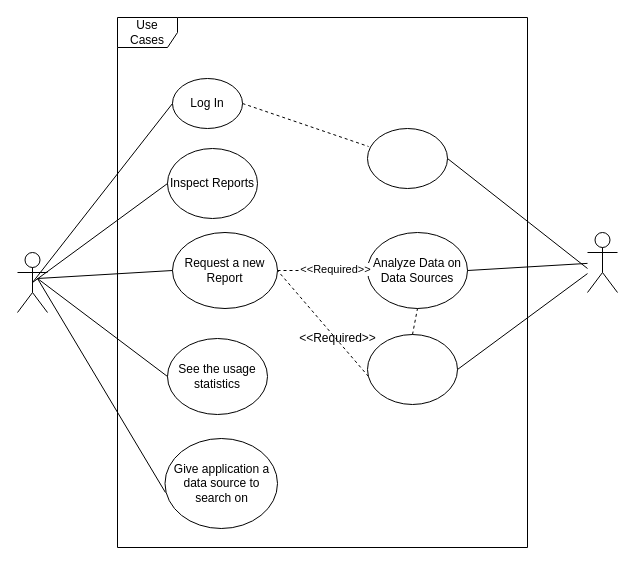
Some shapes in this 635 by 565 pixel diagram are drawn without their labels. The shapes that lost their labels are listed below. From the top down, each one's centre as x and y in pixels, then its label:
point (407, 158): Create Auth Key
point (32, 282): User
point (602, 262): App
point (412, 369): Generate a report file
